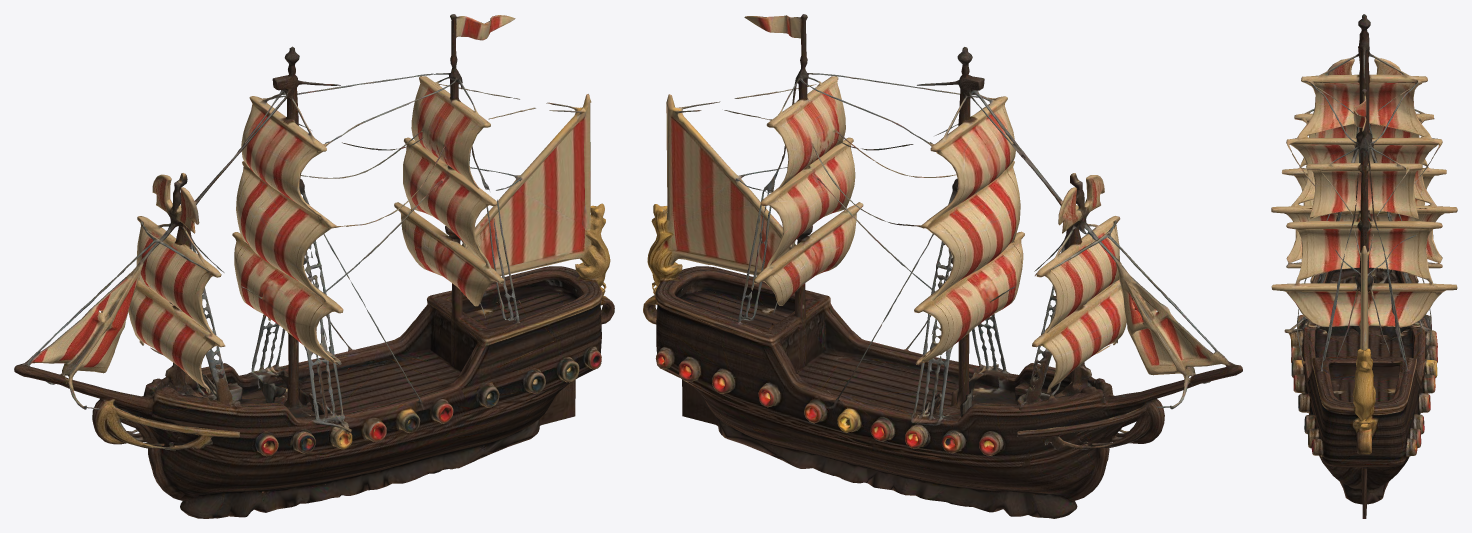
File: meshy_nave.glb
3 renders of one model, left to right at view 1: azimuth 30°, elevation 25°; view 2: azimuth 150°, elevation 25°; view 3: azimuth 270°, elevation 25°, orthographic. The views are drawn at different scales.
Size of the model in its own units: 2 by 1.42 by 0.6174.
1 material, 1 textured.
